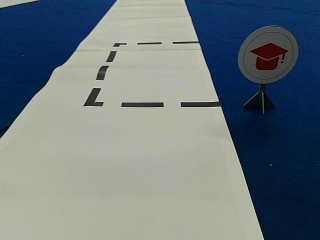school: (239, 27, 297, 83)
